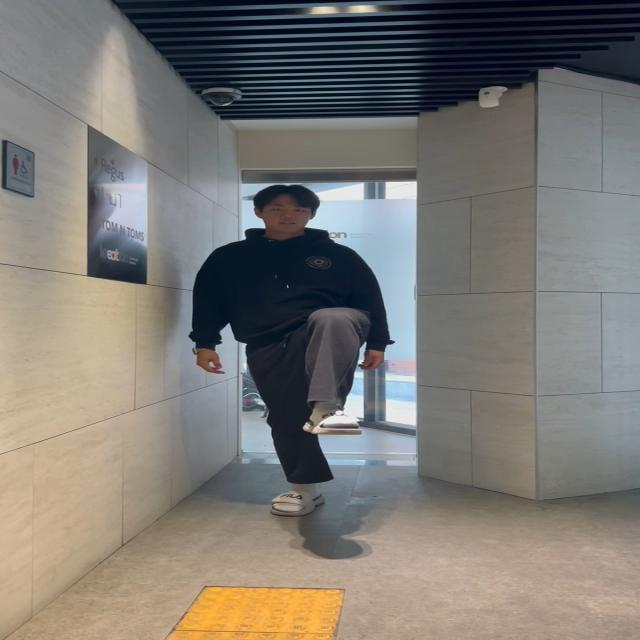knee: (283, 298, 382, 444)
